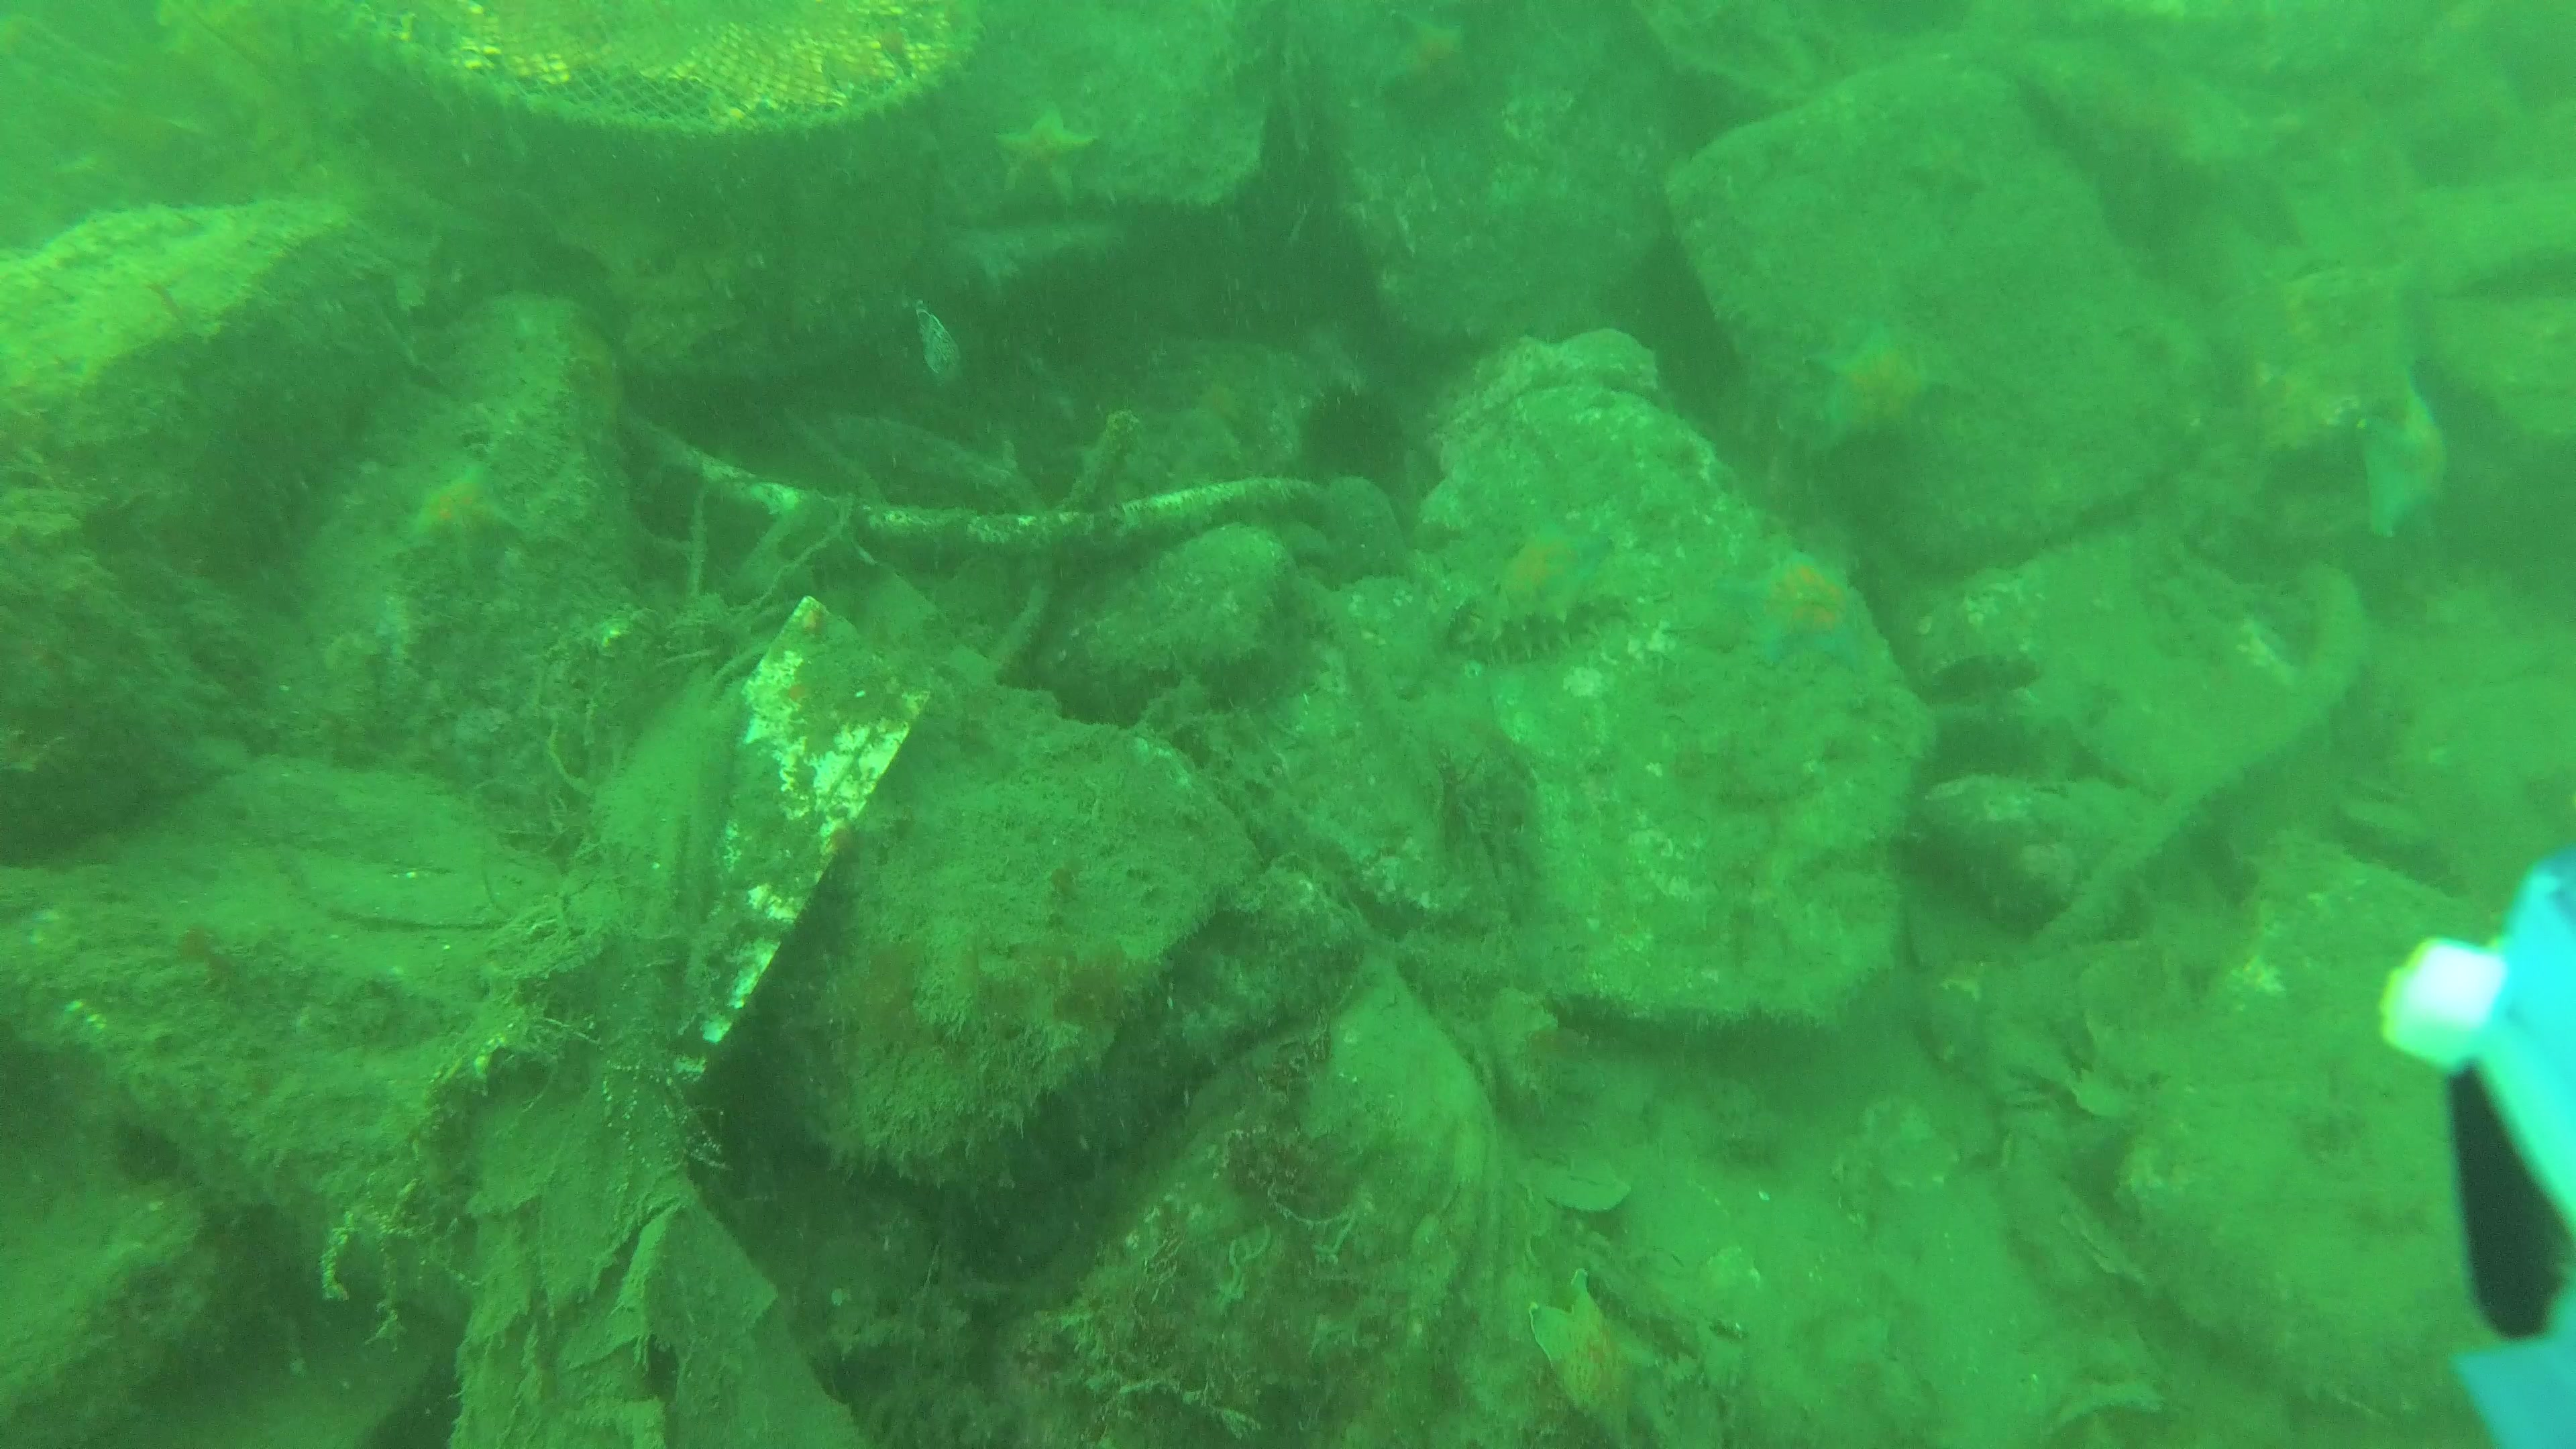starfish: (1529, 1272, 1652, 1438), (1730, 548, 1872, 674), (1819, 322, 1946, 444), (2360, 386, 2454, 533), (1493, 522, 1605, 626), (414, 465, 518, 566), (1376, 11, 1474, 110), (1000, 104, 1093, 202), (1192, 379, 1240, 428)
